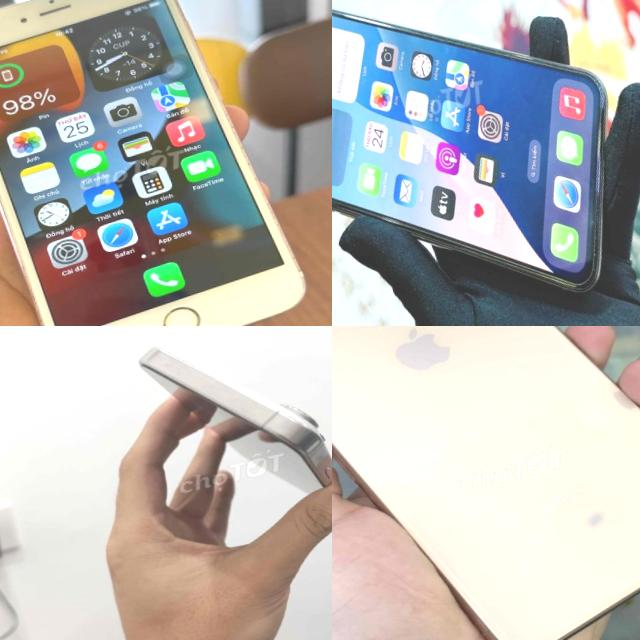gen_16: (127, 326, 332, 537)
gen_6: (0, 0, 330, 326)
gen_x_xs: (332, 0, 640, 326), (332, 326, 640, 640)
scratch: (425, 2, 540, 84), (547, 39, 613, 120), (580, 212, 611, 270)
